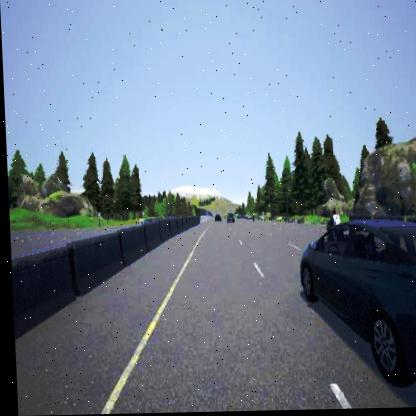motobike: (322, 210, 341, 249)
vehicle: (295, 219, 416, 390), (223, 212, 232, 224), (210, 211, 218, 223)
